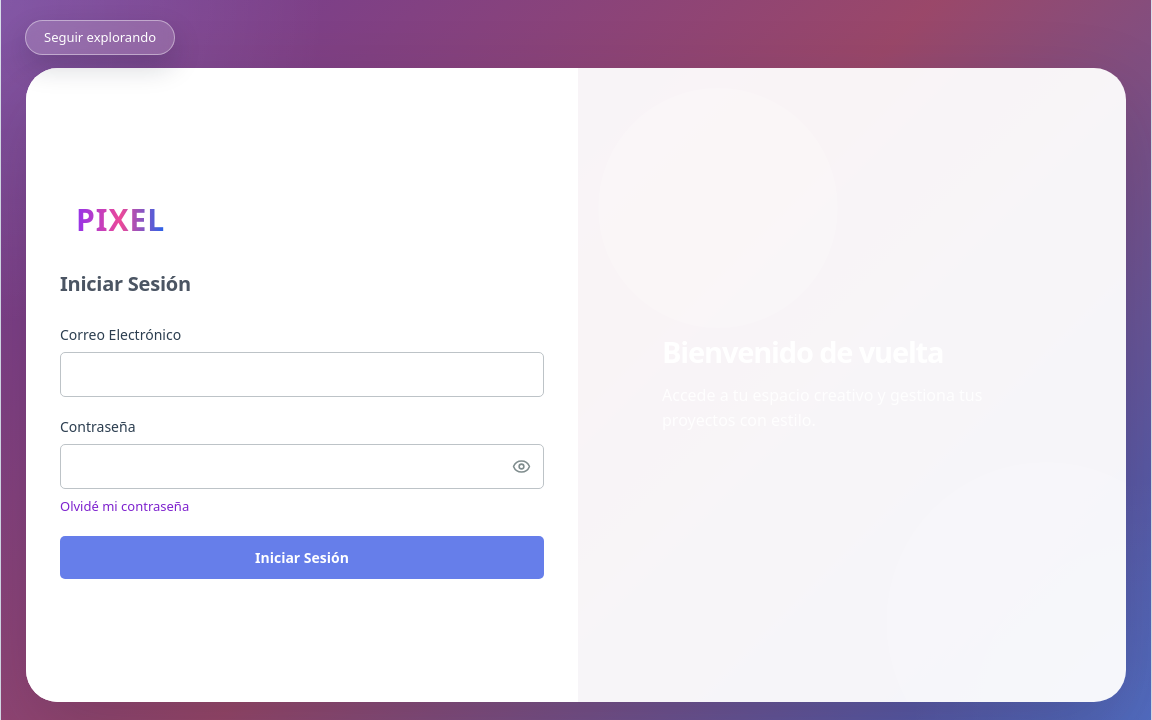
LoginPage › shows a controlled error and keeps the page mounted when login fails
Type "admin@pixel.com" into the field.
click(302, 375); type("admin@pixel.com")  # box [60, 352, 544, 397]
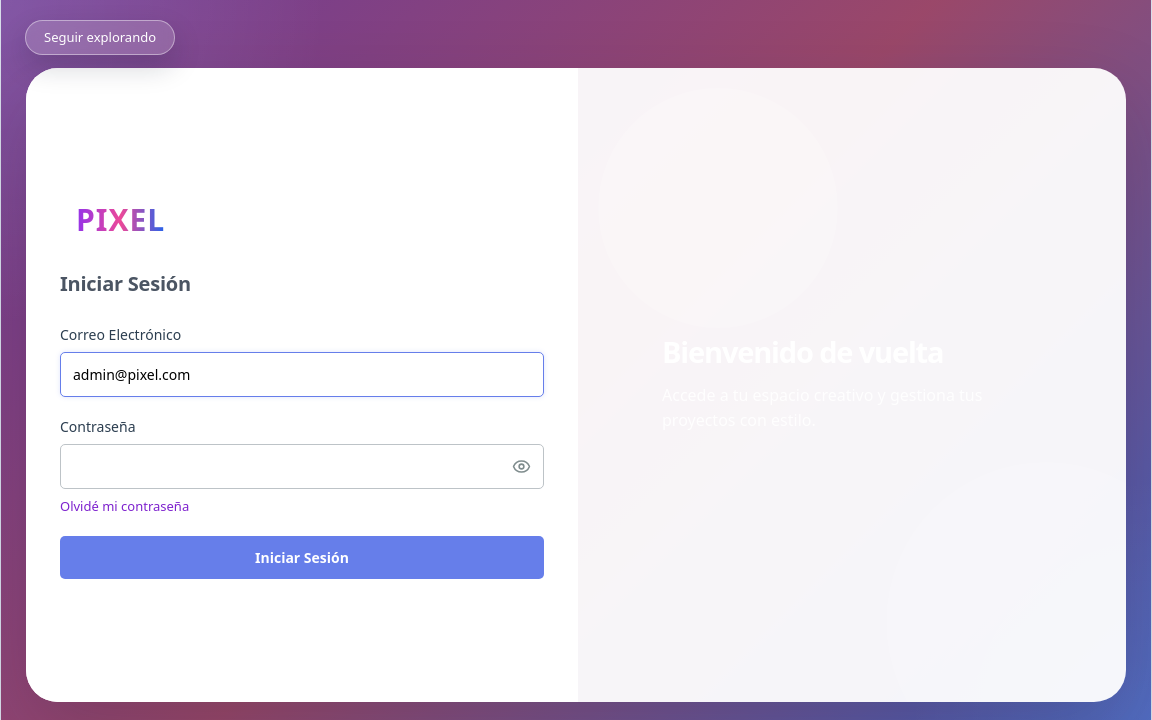
Type "bad-password" into the password field with id "contrasena".
click(302, 467); type("bad-password")  # box [60, 444, 544, 489]
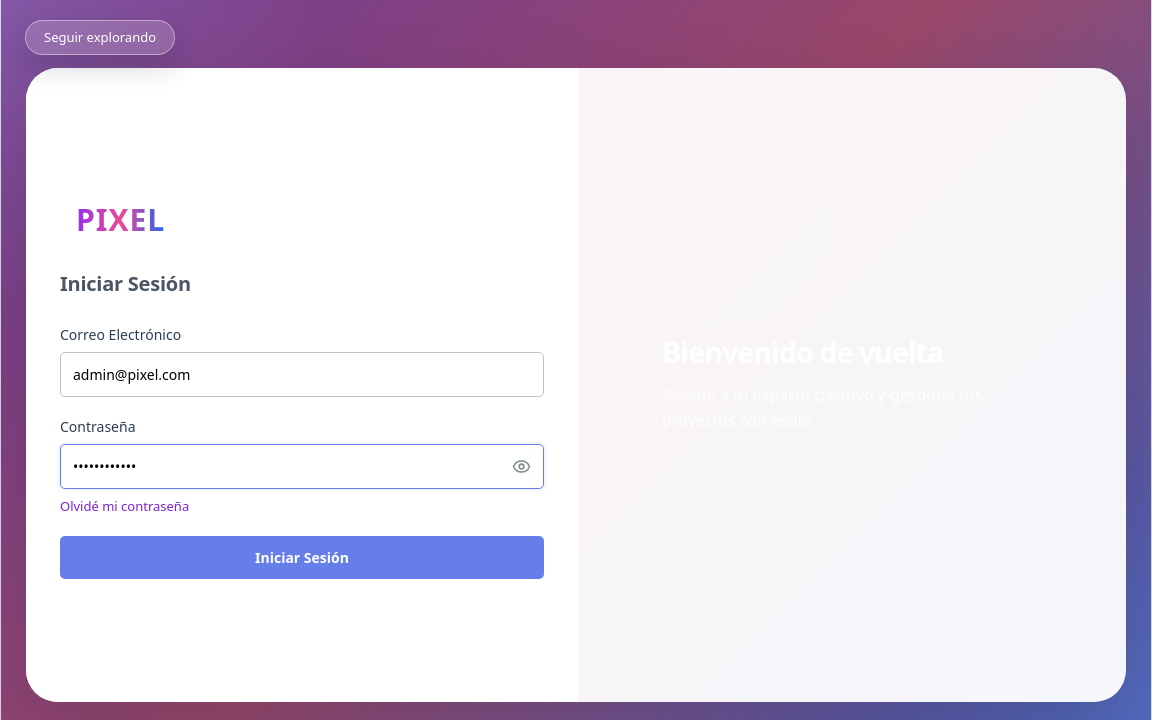
Click the button "Iniciar Sesión".
click(302, 558)  # box [60, 536, 544, 579]
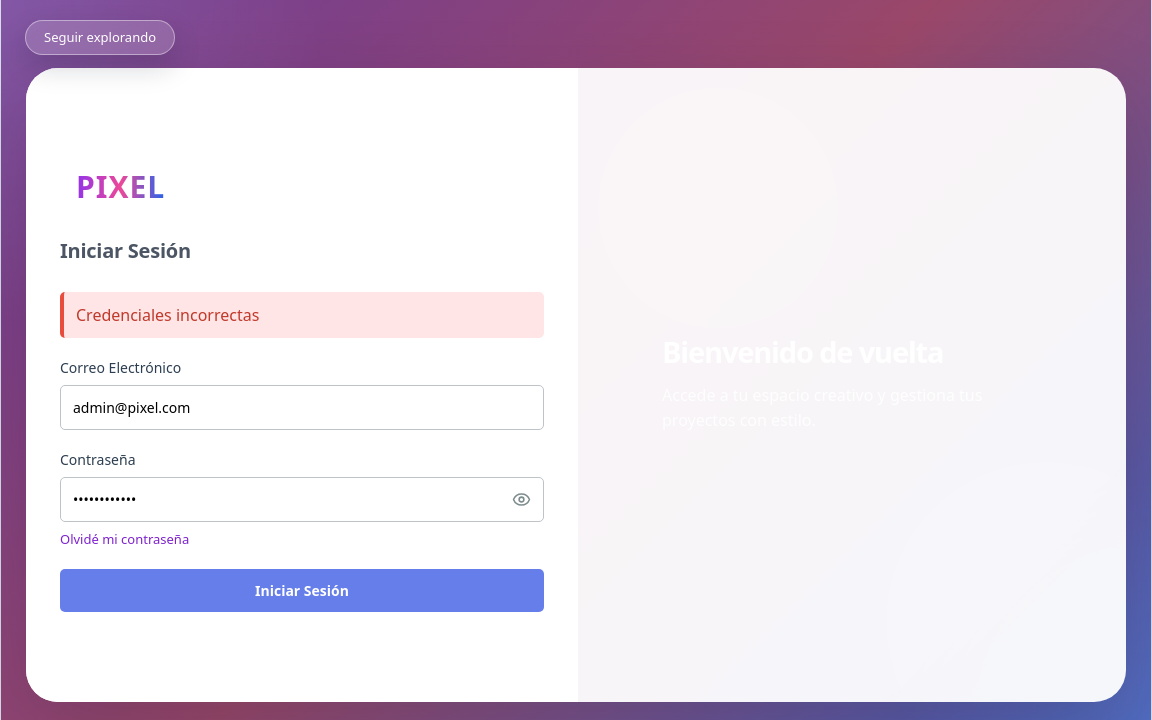
Now the text "Credenciales incorrectas" is shown, box [60, 292, 544, 338]
